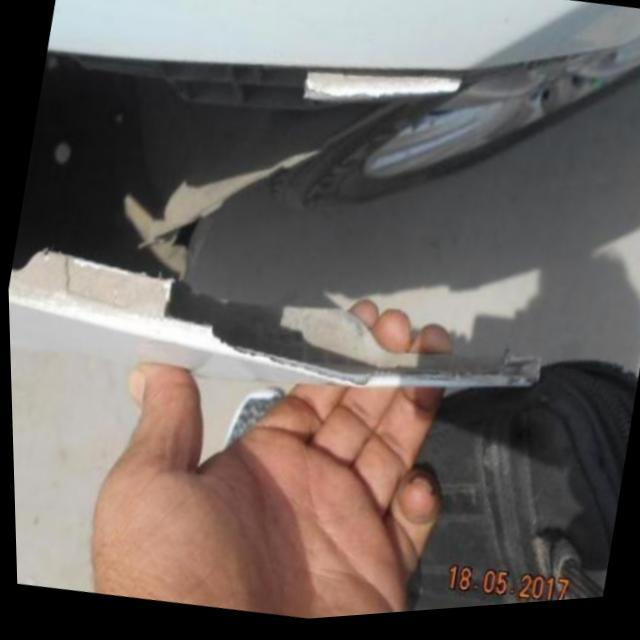dislocated part: (7, 47, 580, 398)
